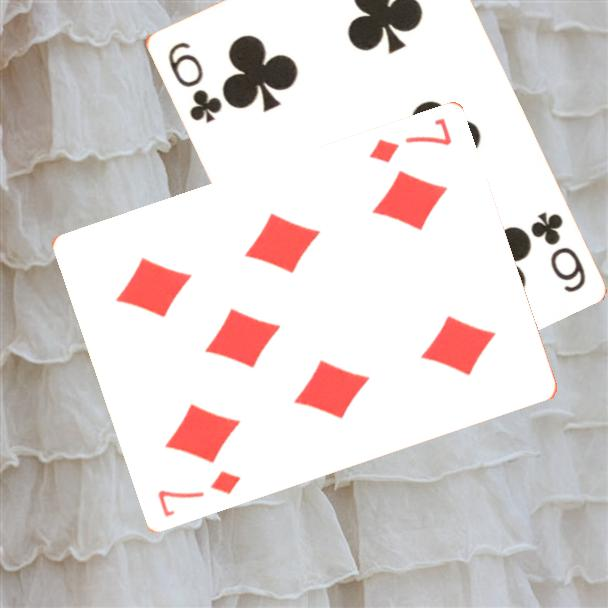c06: (163, 38, 225, 126), (526, 208, 588, 295)
d07: (153, 467, 243, 521), (365, 115, 455, 167)
